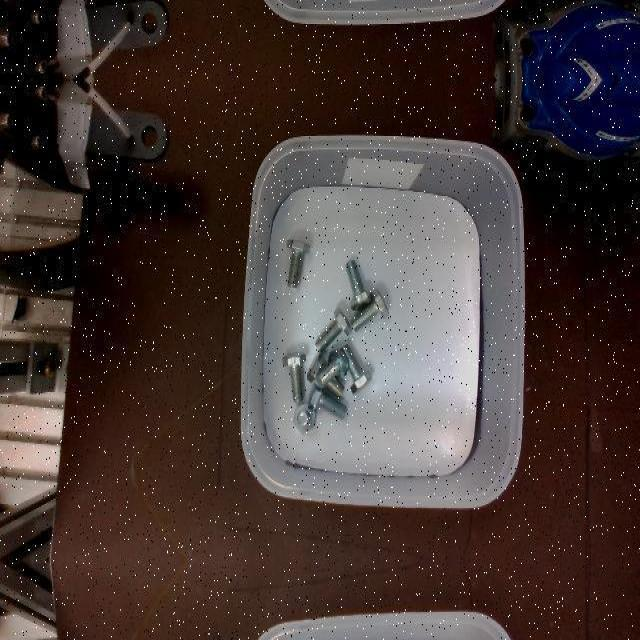screw: (353, 288, 390, 332), (315, 307, 351, 349), (316, 348, 349, 388), (346, 259, 372, 309), (282, 352, 306, 402), (286, 239, 310, 287), (293, 402, 316, 434)
